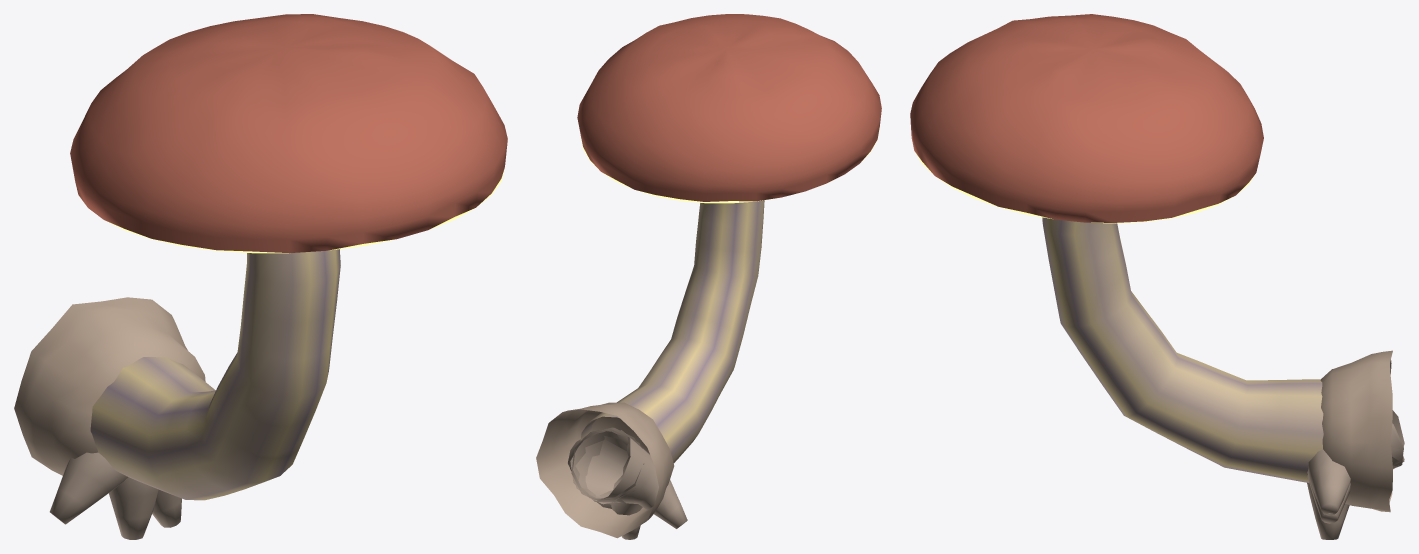
The model's file is hammer_cap.glb.
The picture shows the model from 3 angles, left to right: view 1: azimuth 30°, elevation 25°; view 2: azimuth 150°, elevation 25°; view 3: azimuth 270°, elevation 25°; orthographic projection. The views are drawn at different scales.
Visible parts, largest first — view 1: Arm, Root; view 2: Arm, Root; view 3: Arm, Root.
Boxes of the visible parts, x1,y1,x2,y2 form: Arm: (70,14,507,500); Root: (14,297,205,539); Arm: (577,14,881,463); Root: (536,402,687,539); Arm: (910,14,1323,482); Root: (1307,350,1404,539).
Size of the model in its own units: 3.3 by 4.95 by 4.6.
